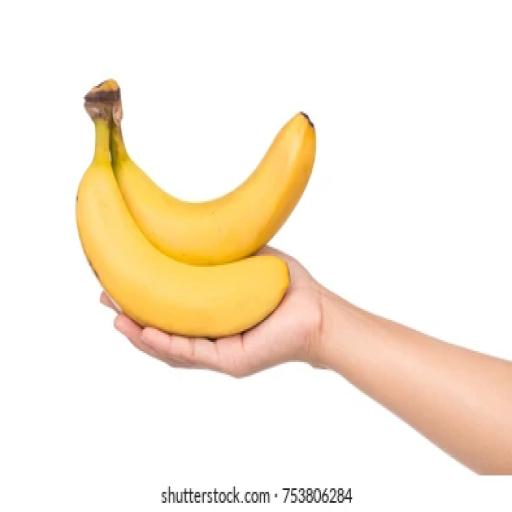banana: (76, 90, 289, 338), (111, 96, 315, 265)
